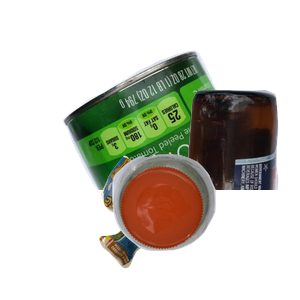glass: (87, 87, 300, 267)
metal: (60, 48, 300, 228)
plastic: (110, 152, 300, 300)
trash: (97, 151, 283, 300)
